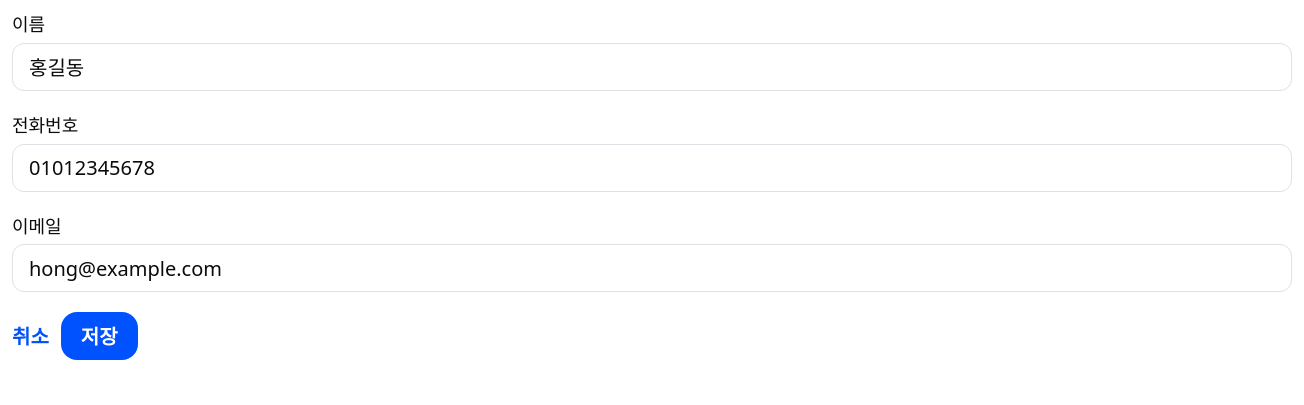
Test case: ProfileEditForm › 서버 필드 에러를 해당 입력에 매핑한다
Replace the text in the field labelled "이름" with "임꺽정": (652, 67) 12,43 -> 1292,91
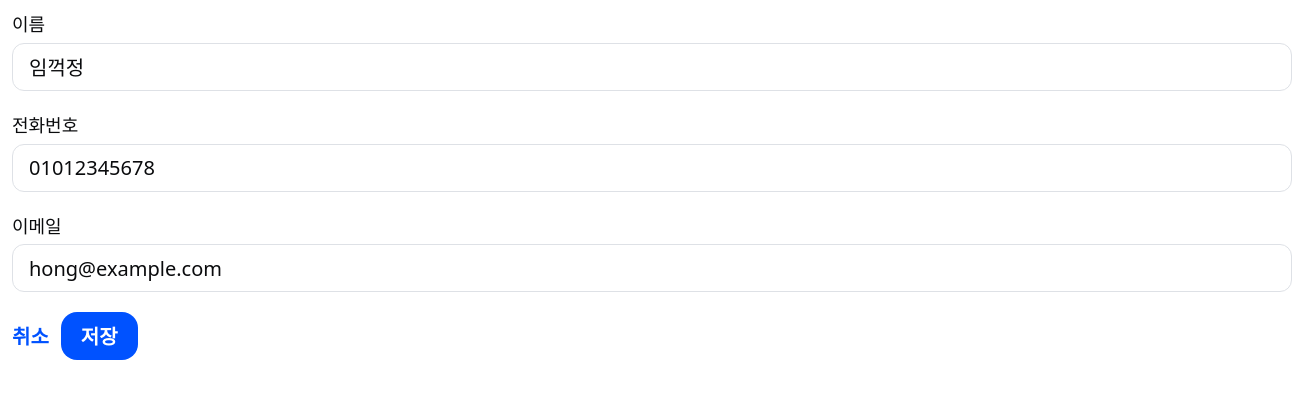
Click the button "저장": (99, 336) 61,312 -> 138,360
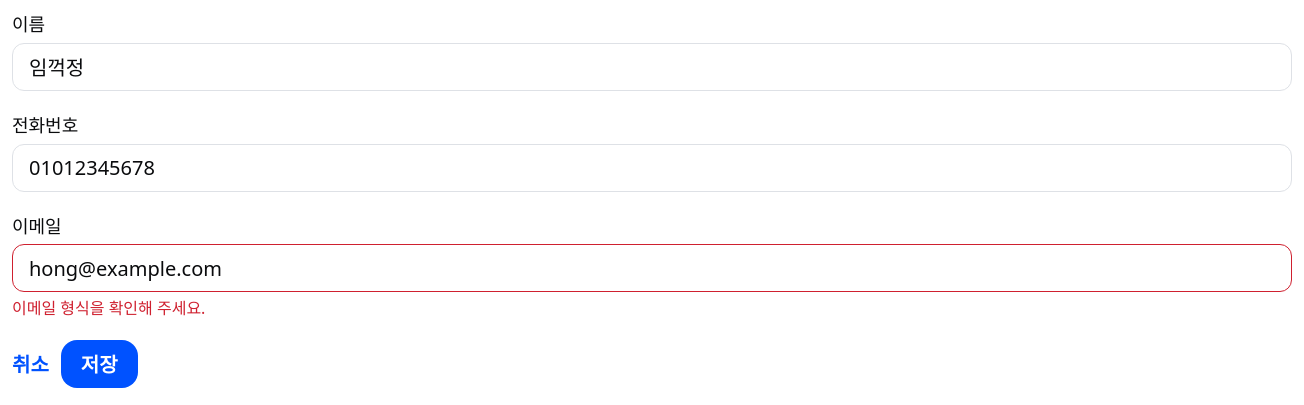
Check: the text "이메일 형식을 확인해 주세요." is shown, box 12,297 -> 205,319
